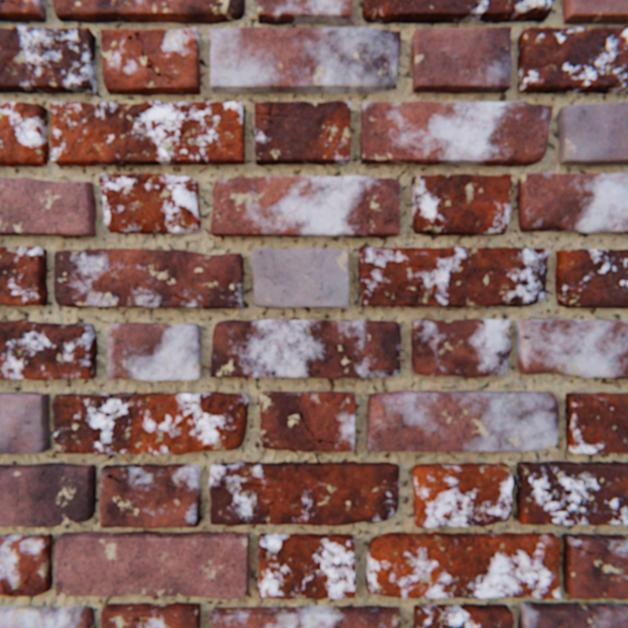brick: (56, 530, 249, 597), (366, 531, 559, 598), (51, 102, 245, 167), (210, 28, 400, 94), (360, 102, 551, 167), (53, 391, 248, 454), (210, 460, 398, 524), (210, 176, 400, 238), (366, 390, 557, 451), (358, 247, 547, 307), (55, 249, 243, 308), (210, 319, 400, 377), (516, 28, 627, 94), (515, 460, 627, 524), (516, 173, 627, 234), (514, 319, 627, 378), (411, 28, 510, 94), (102, 29, 201, 95), (258, 532, 355, 598), (0, 28, 97, 94), (101, 463, 201, 527), (411, 462, 511, 526), (0, 462, 96, 526), (100, 174, 201, 234), (411, 175, 510, 236), (255, 102, 350, 165), (411, 318, 510, 377), (260, 390, 355, 451), (0, 320, 98, 379), (252, 249, 348, 308), (0, 178, 96, 237), (108, 323, 202, 380), (54, 0, 245, 25), (362, 0, 551, 25), (556, 103, 627, 166), (561, 532, 627, 598), (211, 604, 399, 627), (554, 249, 627, 308), (564, 392, 627, 453), (0, 533, 53, 595), (0, 103, 50, 167), (0, 391, 51, 453), (517, 600, 627, 627), (0, 247, 48, 306), (101, 601, 200, 627), (413, 602, 512, 627), (258, 0, 352, 26), (0, 603, 95, 627), (561, 0, 627, 25), (0, 0, 47, 23)
crack: (128, 33, 176, 80), (297, 402, 342, 444), (255, 107, 289, 136), (0, 567, 25, 593), (262, 494, 278, 523), (30, 65, 72, 72), (414, 278, 424, 303), (384, 261, 424, 267), (239, 481, 273, 486), (102, 473, 123, 481), (169, 294, 191, 301), (133, 615, 145, 627), (573, 545, 591, 553), (0, 0, 23, 5), (25, 570, 32, 585), (258, 140, 265, 152), (28, 41, 33, 51), (382, 218, 392, 223), (532, 185, 541, 190), (404, 303, 412, 306), (521, 335, 528, 338)
